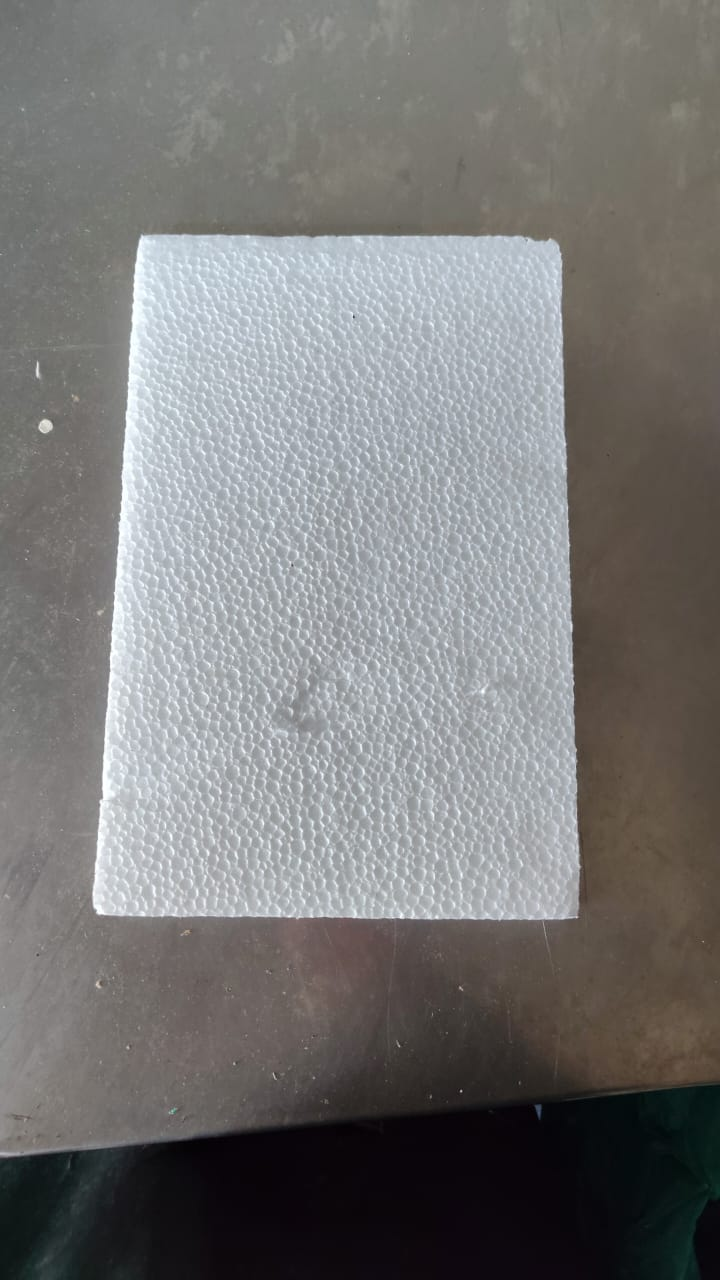Ordinario: (93, 236, 584, 921)
